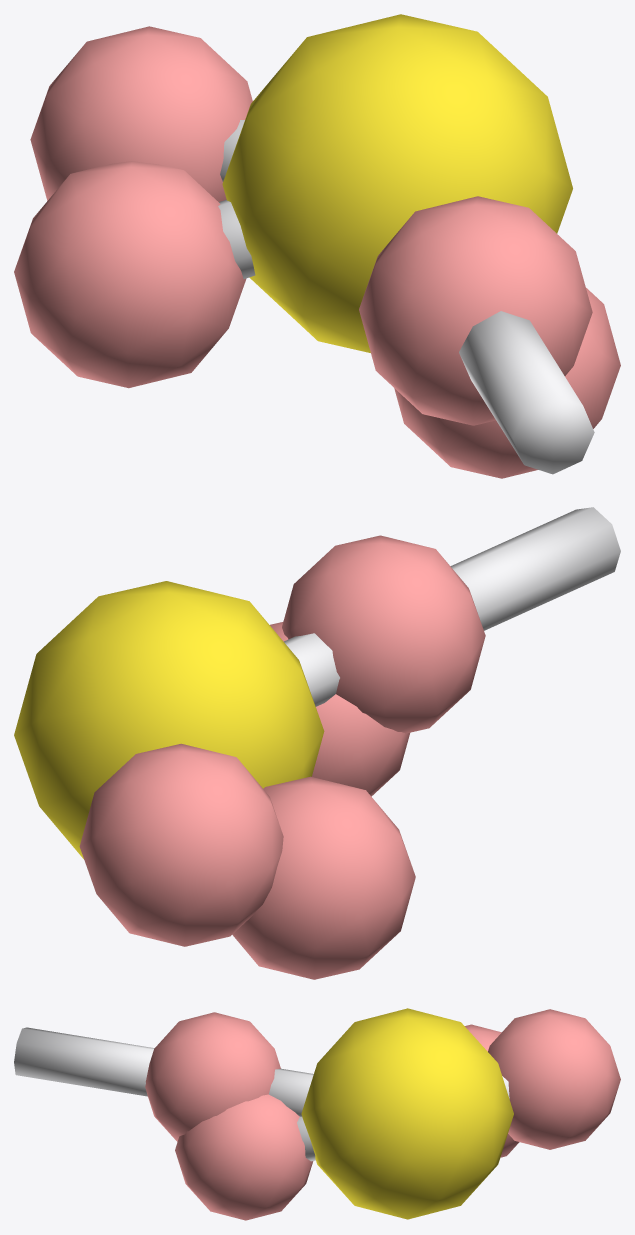
File: Phosphate_Group.glb
The picture shows the model from 3 angles, top to bottom: view 1: azimuth 30°, elevation 25°; view 2: azimuth 150°, elevation 25°; view 3: azimuth 270°, elevation 25°; orthographic projection. The views are drawn at different scales.
Visible parts, largest first — view 1: Phosphate_Group_Oxygen, Phosphate_Group_Phosphorus, Phosphate_Group_Bonds; view 2: Phosphate_Group_Oxygen, Phosphate_Group_Phosphorus, Phosphate_Group_Bonds; view 3: Phosphate_Group_Oxygen, Phosphate_Group_Phosphorus, Phosphate_Group_Bonds.
Part boxes in pixels (x1,y1,x2,y2): Phosphate_Group_Oxygen: [14, 26, 620, 478]; Phosphate_Group_Phosphorus: [222, 14, 572, 352]; Phosphate_Group_Bonds: [218, 120, 594, 474]; Phosphate_Group_Oxygen: [79, 535, 485, 979]; Phosphate_Group_Phosphorus: [14, 581, 324, 858]; Phosphate_Group_Bonds: [284, 507, 620, 706]; Phosphate_Group_Oxygen: [145, 1009, 620, 1220]; Phosphate_Group_Phosphorus: [301, 1008, 513, 1219]; Phosphate_Group_Bonds: [14, 1027, 509, 1161].
Size of the model in its own units: 0.0231 by 0.0159 by 0.0428.
